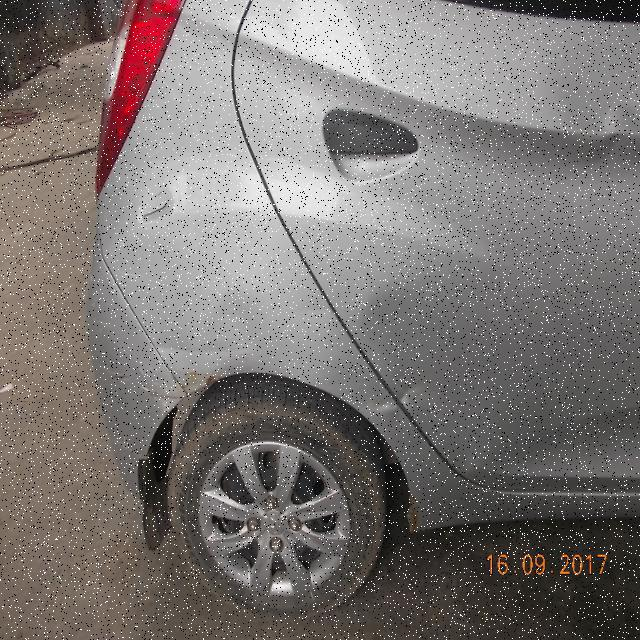doorouter-dent: (300, 6, 639, 472)
quaterpanel-dent: (136, 33, 299, 481)
rear-bumper-dent: (68, 220, 189, 573)
